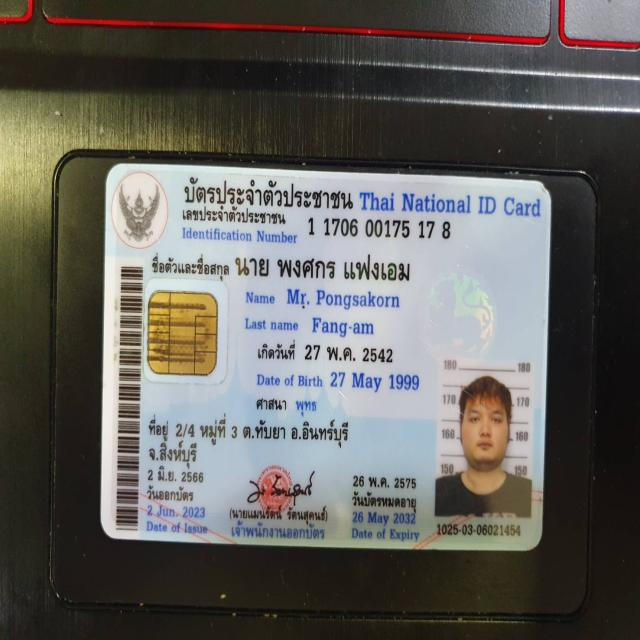Address_th: (147, 411, 358, 470)
Date_of_Birth: (326, 366, 424, 401)
Date_of_Expiry: (347, 508, 421, 527)
Date_of_Issue: (145, 500, 210, 522)
First_Name: (283, 282, 406, 313)
ID_Number: (304, 214, 455, 244)
Image: (434, 358, 535, 519)
Last_Name: (307, 314, 381, 343)
Thai_Name: (231, 242, 415, 288)
